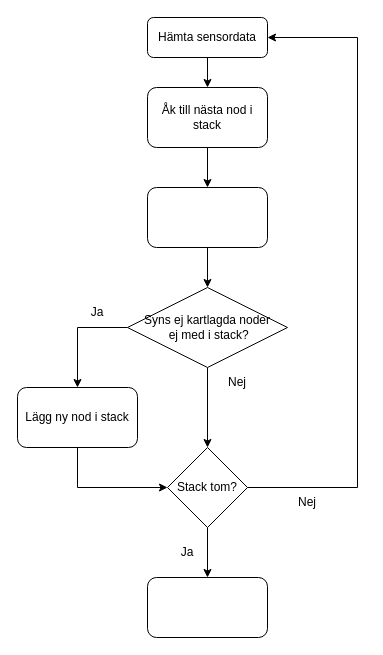
Some shapes in this 383 by 655 pixel diagram are drawn without their labels. Here are the shapes that lost their labels. From the top down, the box of each, then its label:
(146, 186, 268, 248): Kartlägg nod och skicka data till extern dator
(146, 576, 268, 638): Återgå till startnod
